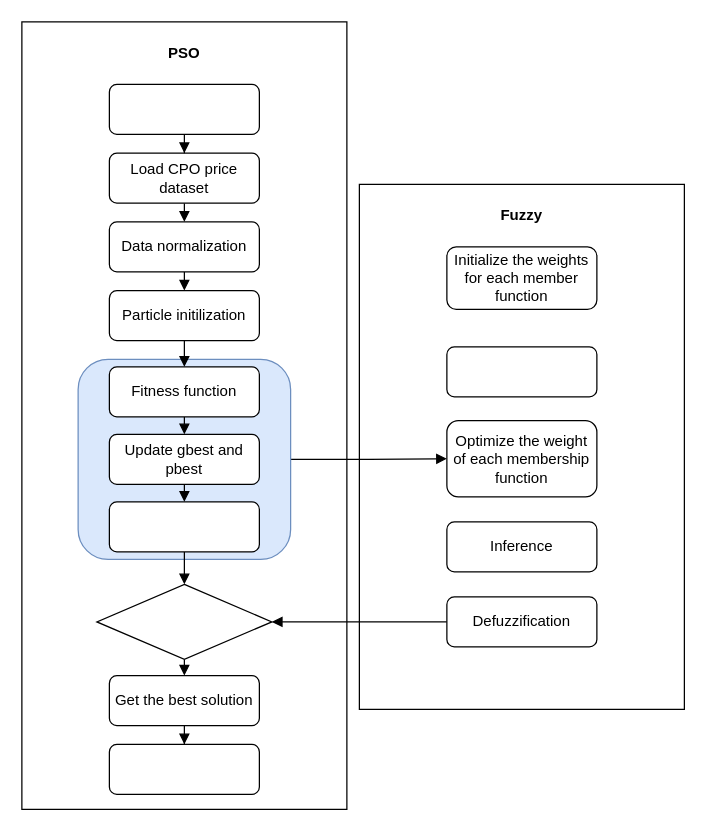
This 706x831 diagram has some shape labels left out. Each missing label, with the centre of its shape:
End: point 183,768
Fuzzification: point 521,371
Iterative condition is satisfied or not: point 184,621
Start: point 183,108
Update position and speed of particles: point 183,526
